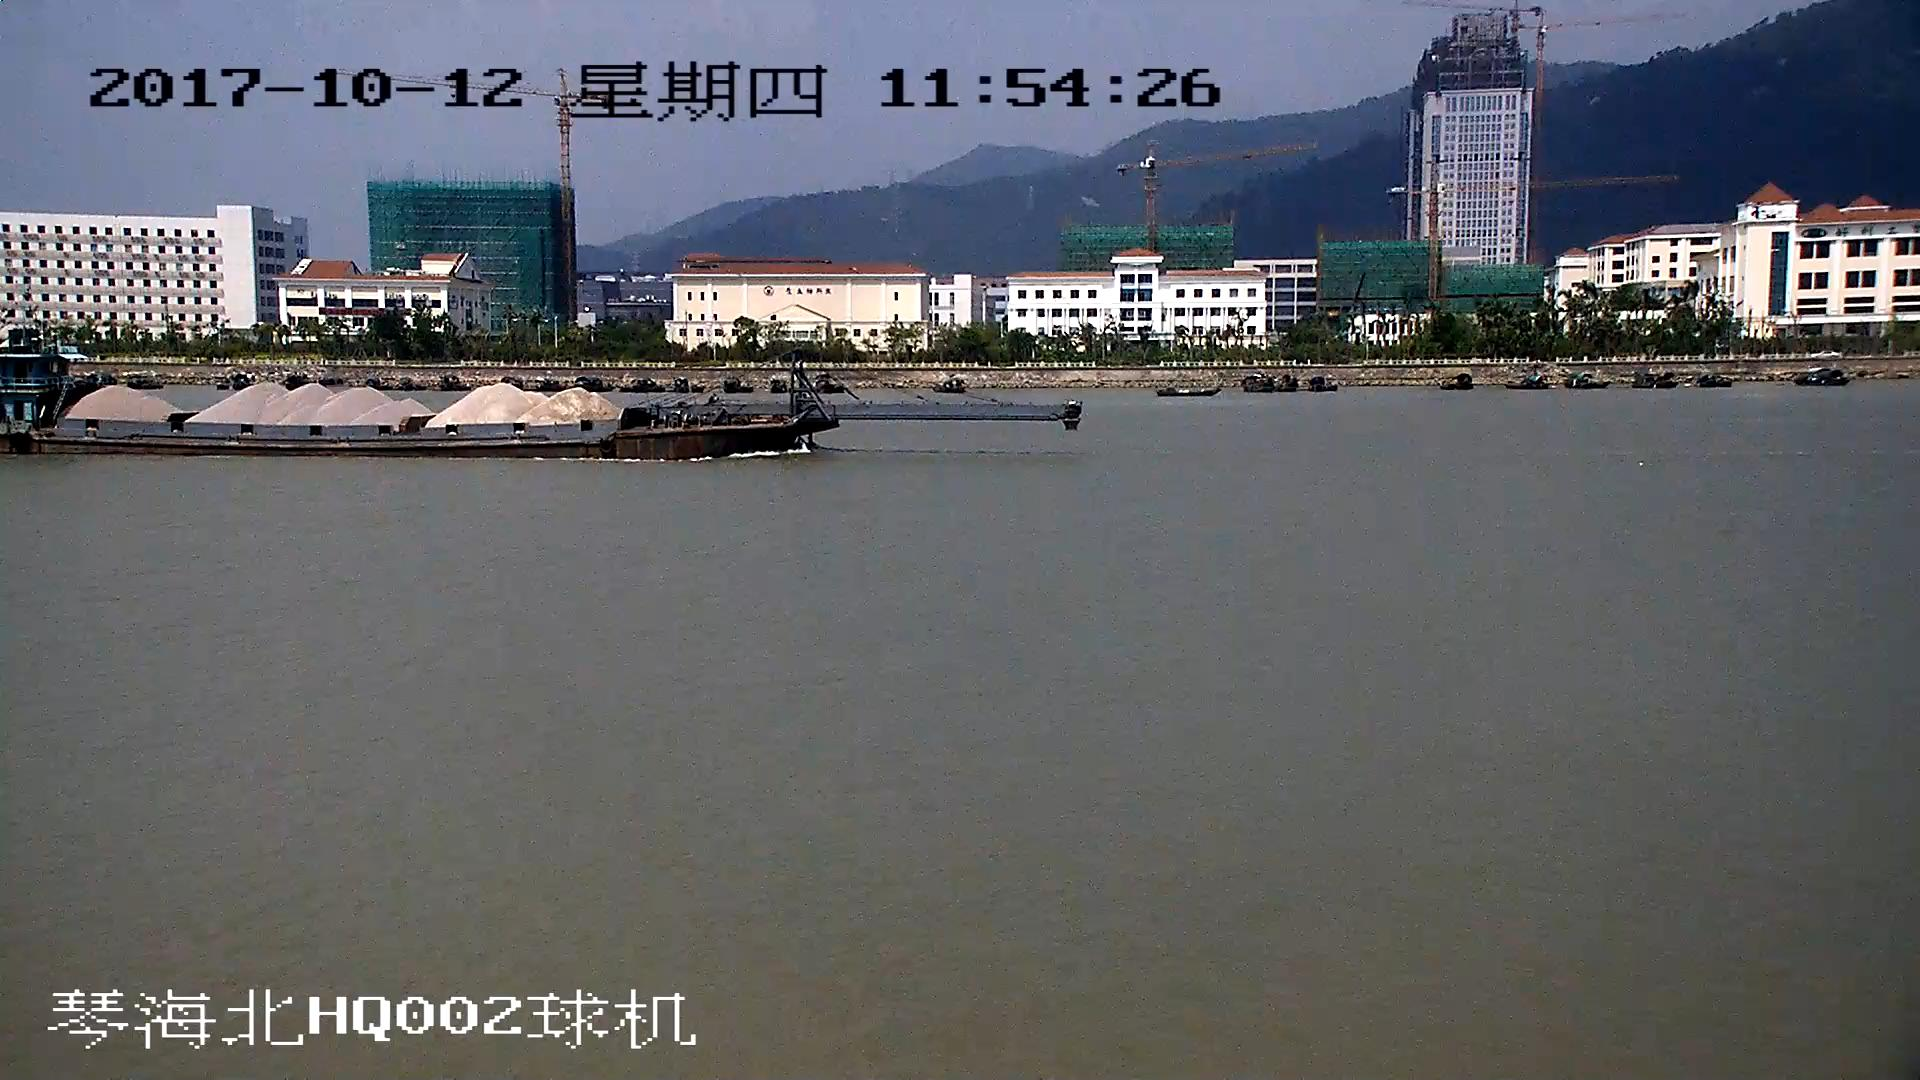ore carrier: (1, 353, 1080, 457)
